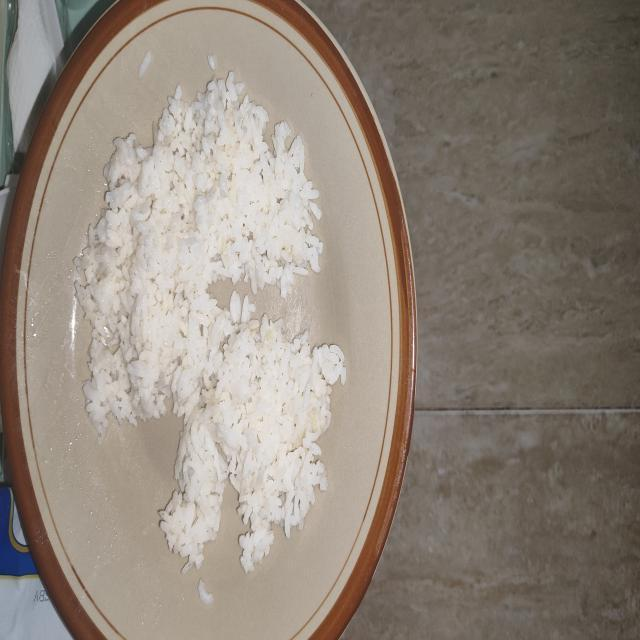nasi_putih: (75, 74, 346, 574)
